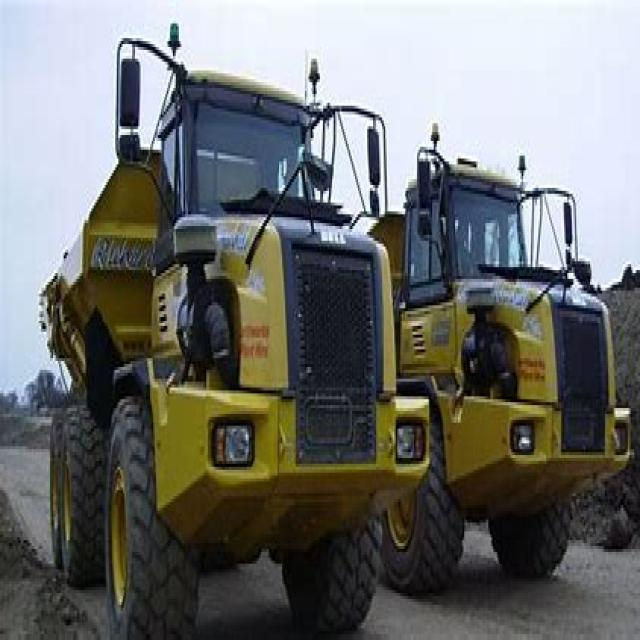dump_truck: (32, 26, 418, 637), (411, 132, 638, 608)
